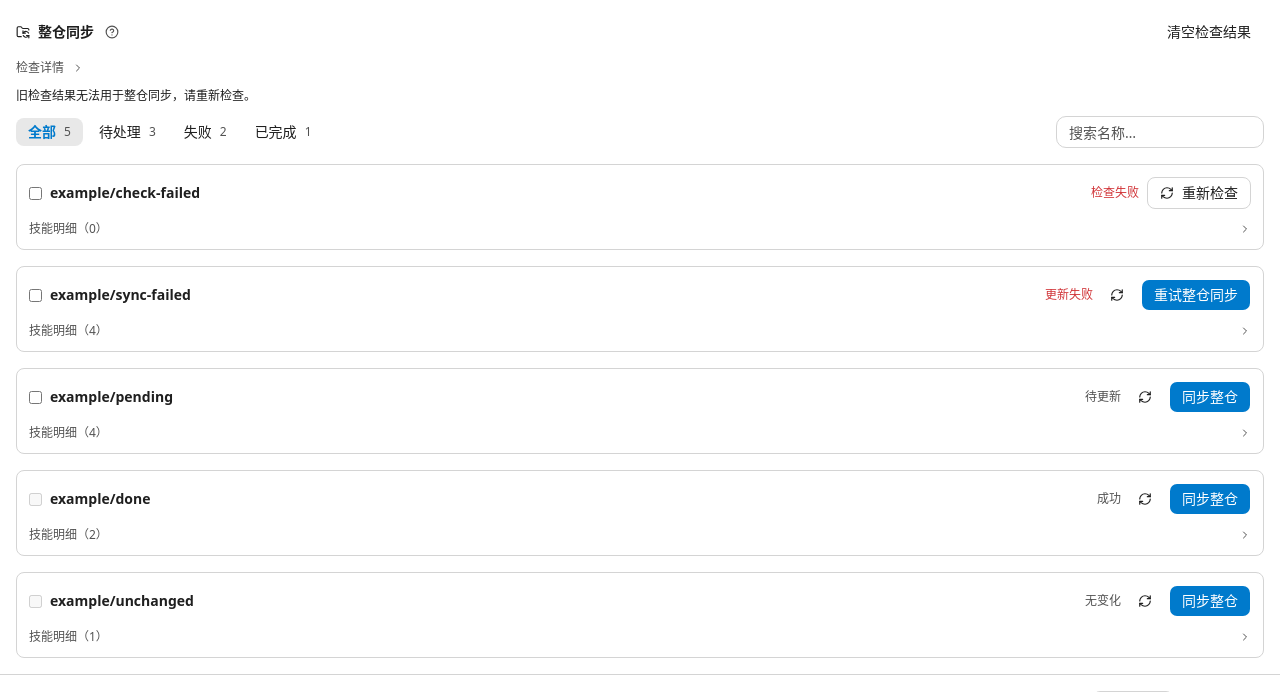
Test: filters failed and actionable repositories with counts and excludes unchanged from completed
Click the button "失败 2" at (205, 132), box [172,118,239,146]
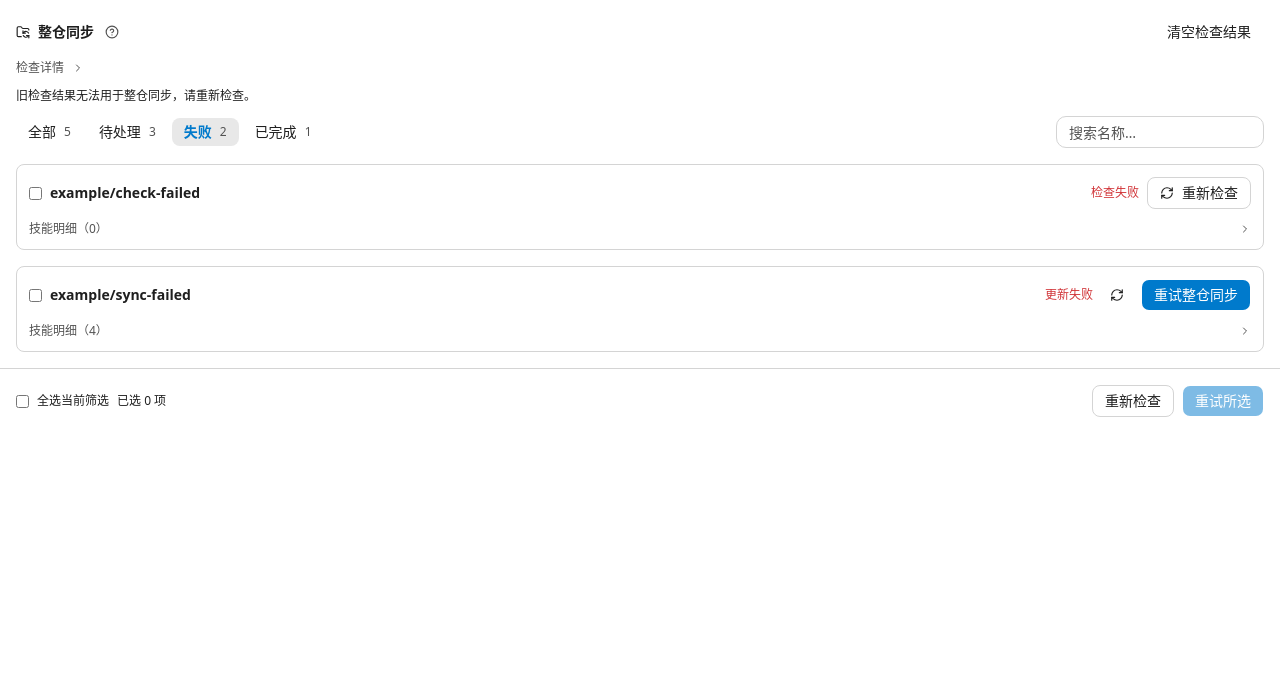
Expected: the checkbox named "example/check-failed" is enabled, [29,186,42,200]
Expected: the text "example/pending" is gone
Click the button "待处理 3" at (127, 132), box [87,118,168,146]
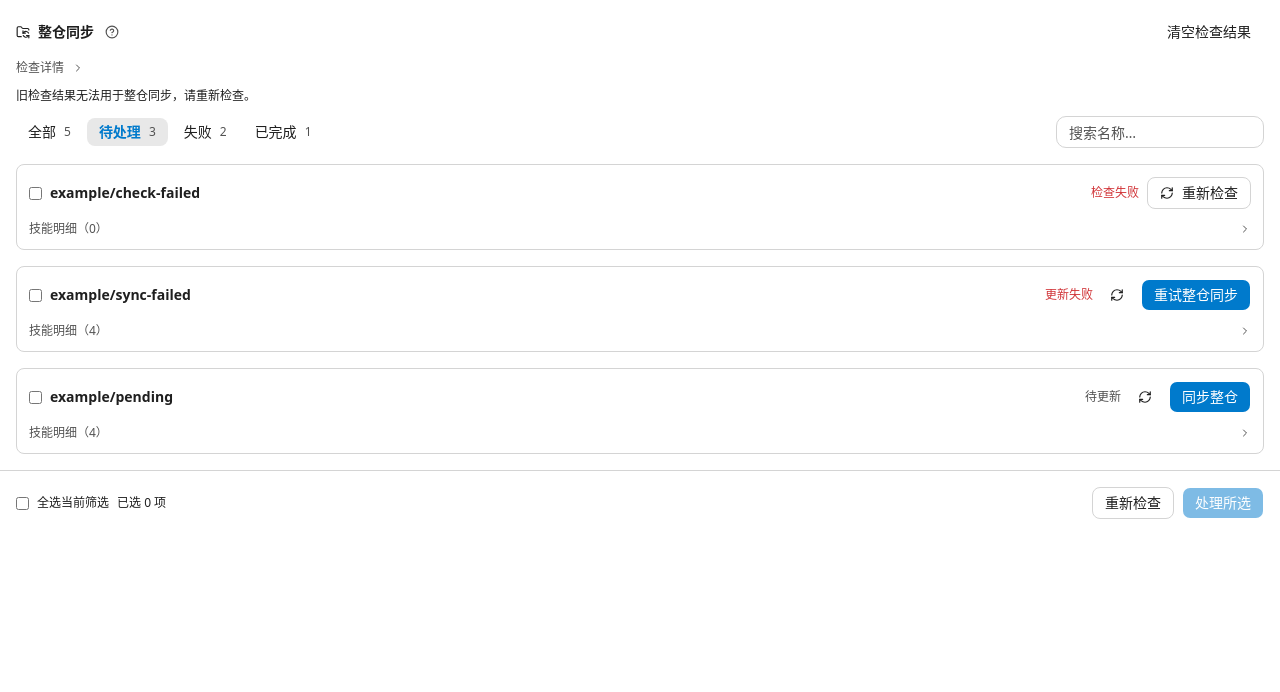
Expected: the checkbox named "example/pending" is enabled, [29,390,42,404]
Click the button "已完成 1" at (283, 132), box [243,118,324,146]
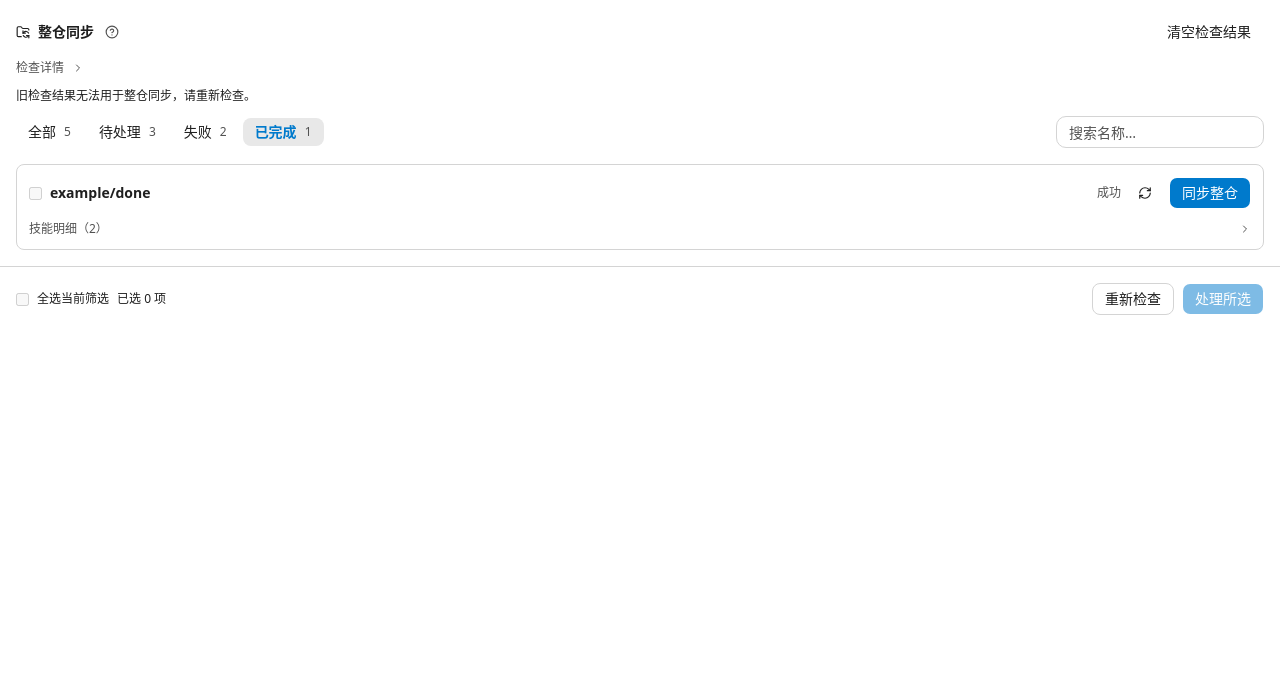
Expected: the text "example/unchanged" is not shown
Expected: the checkbox named "example/done" is disabled, [29,186,42,200]
